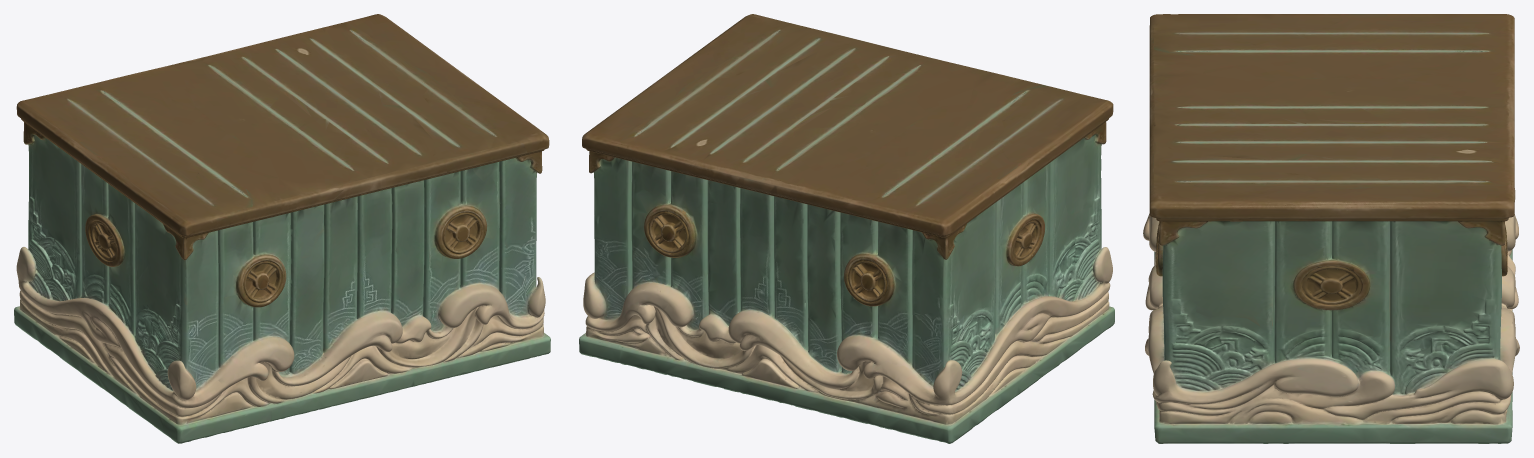
The model's file is act1_ne_pedestal_rodin.glb.
3 views of the same model, side by side, from view 1: azimuth 30°, elevation 25°; view 2: azimuth 150°, elevation 25°; view 3: azimuth 270°, elevation 25° (orthographic). The views are drawn at different scales.
Parts seen in each view (by area): view 1: SM_Act1_NEPedestal; view 2: SM_Act1_NEPedestal; view 3: SM_Act1_NEPedestal.
Boxes of the visible parts, x1,y1,x2,y2 form: SM_Act1_NEPedestal: (14,14,550,443); SM_Act1_NEPedestal: (579,14,1114,443); SM_Act1_NEPedestal: (1143,14,1519,443).
Size of the model in its own units: 3.72 by 2.11 by 3.02.
1 material, 1 textured.
